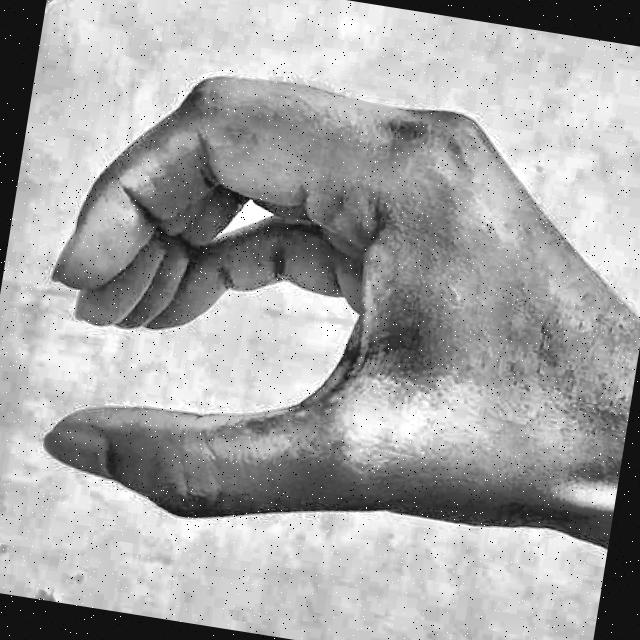Ka: (6, 21, 640, 606)
